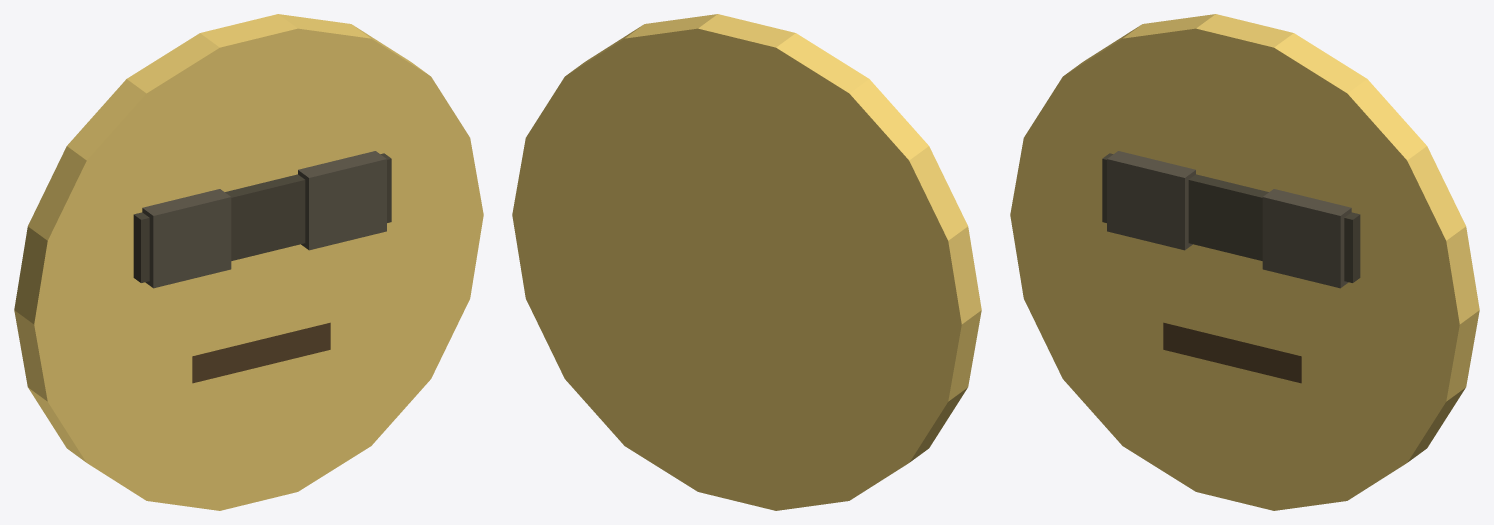
File: cool.glb
The picture shows the model from 3 angles, left to right: view 1: azimuth 30°, elevation 25°; view 2: azimuth 150°, elevation 25°; view 3: azimuth 330°, elevation 25°; orthographic projection.
Visible parts, largest first — view 1: cool; view 2: cool; view 3: cool.
Part boxes in pixels (x1,y1,x2,y2): cool: (14, 14, 483, 510); cool: (512, 14, 981, 510); cool: (1010, 14, 1479, 510).
Bounding box in the file's own units: 1.04 × 1.02 × 0.125.
